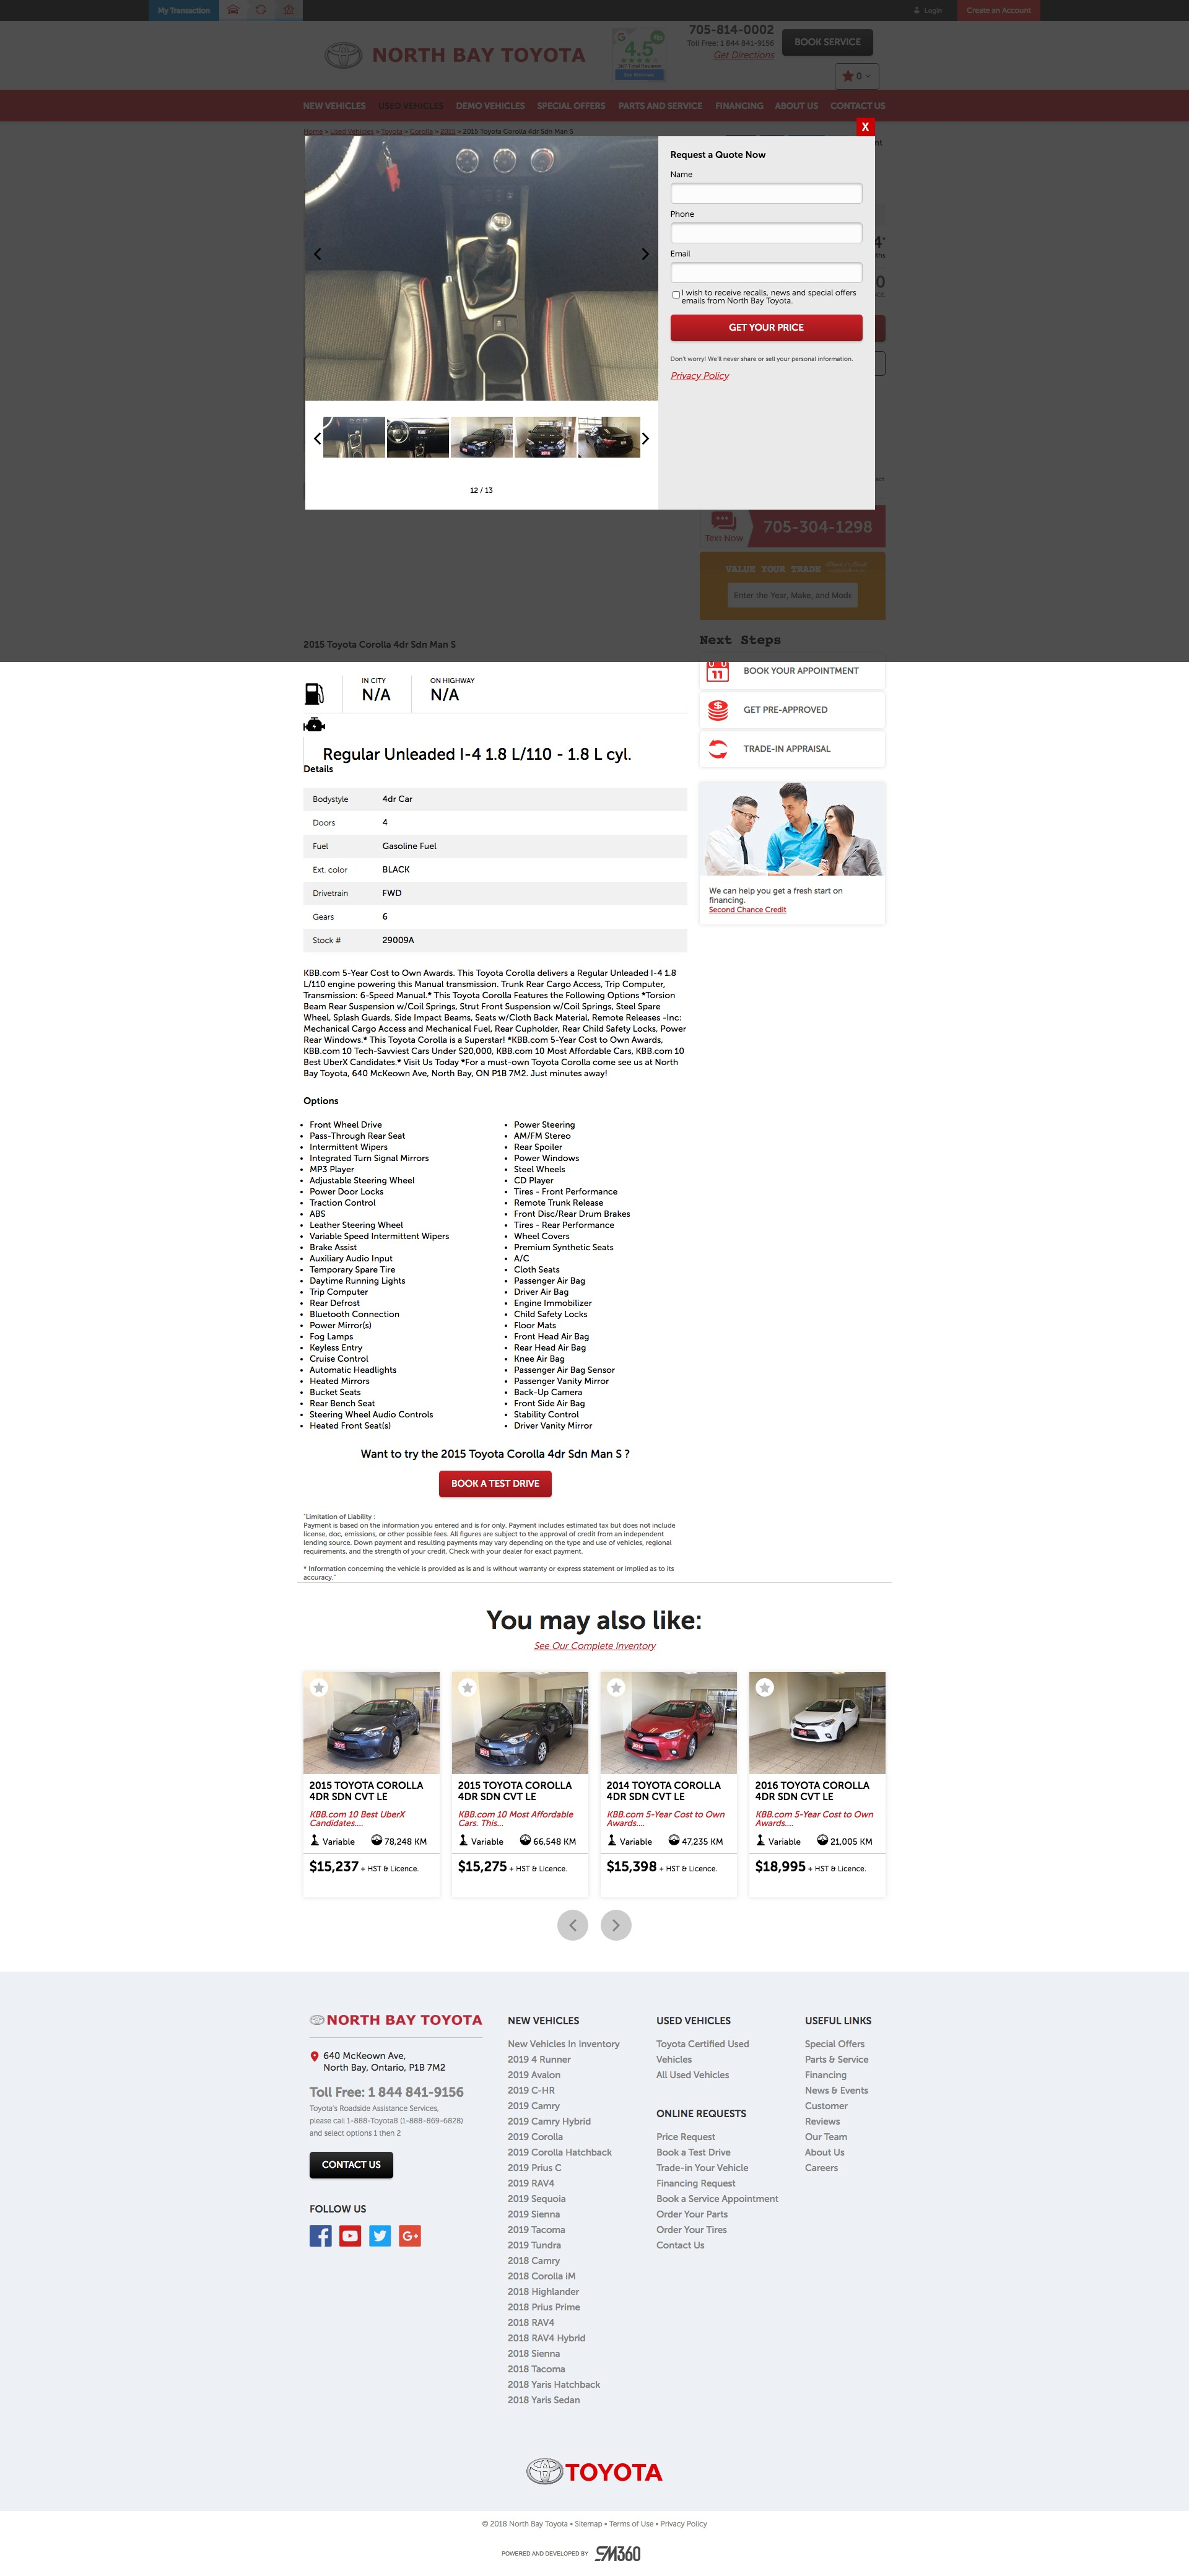car: (642, 432, 650, 448)
